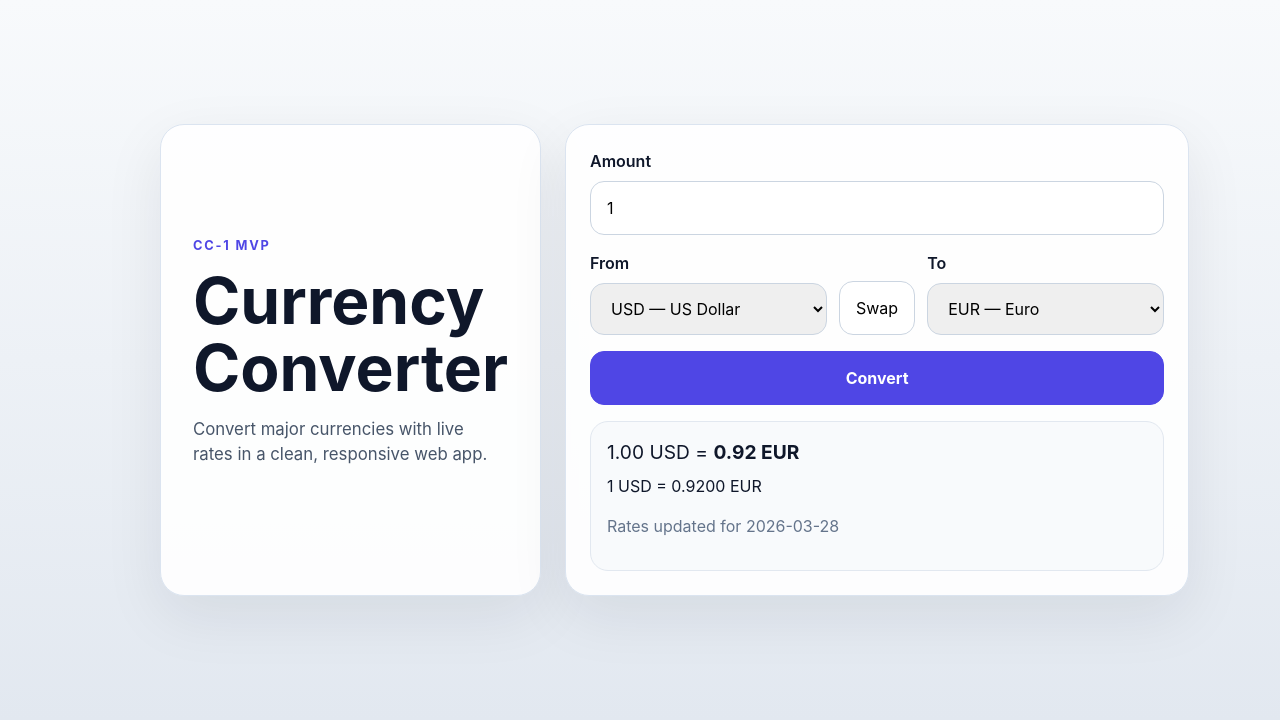
Test: App › refreshes conversion when amount and selector values change on the critical path
The image size is (1280, 720).
Expected: the text "1.00 USD = 0.92 EUR" is shown, top-left (607, 440), bottom-right (799, 464)
Clear the number field labelled "Amount" at point(877, 208), box top-left (590, 181), bottom-right (1164, 235)
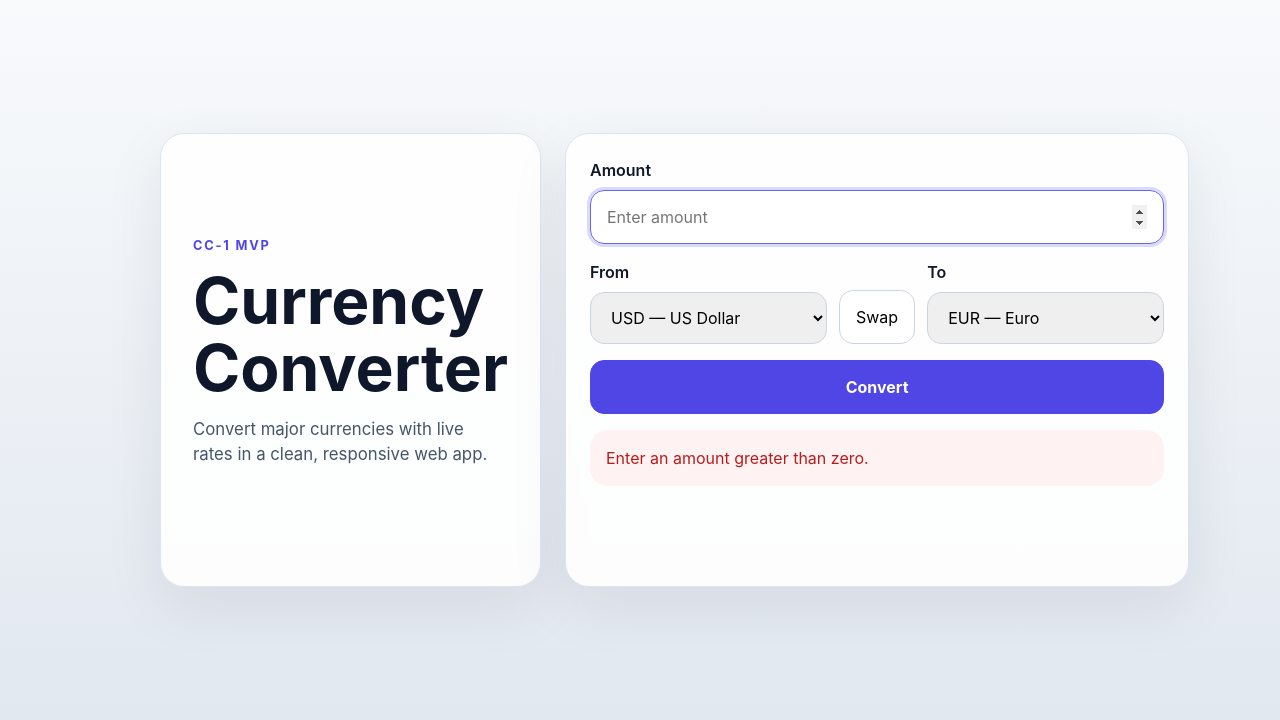
Type "5" into the number field labelled "Amount" at point(877, 217), box top-left (590, 190), bottom-right (1164, 244)
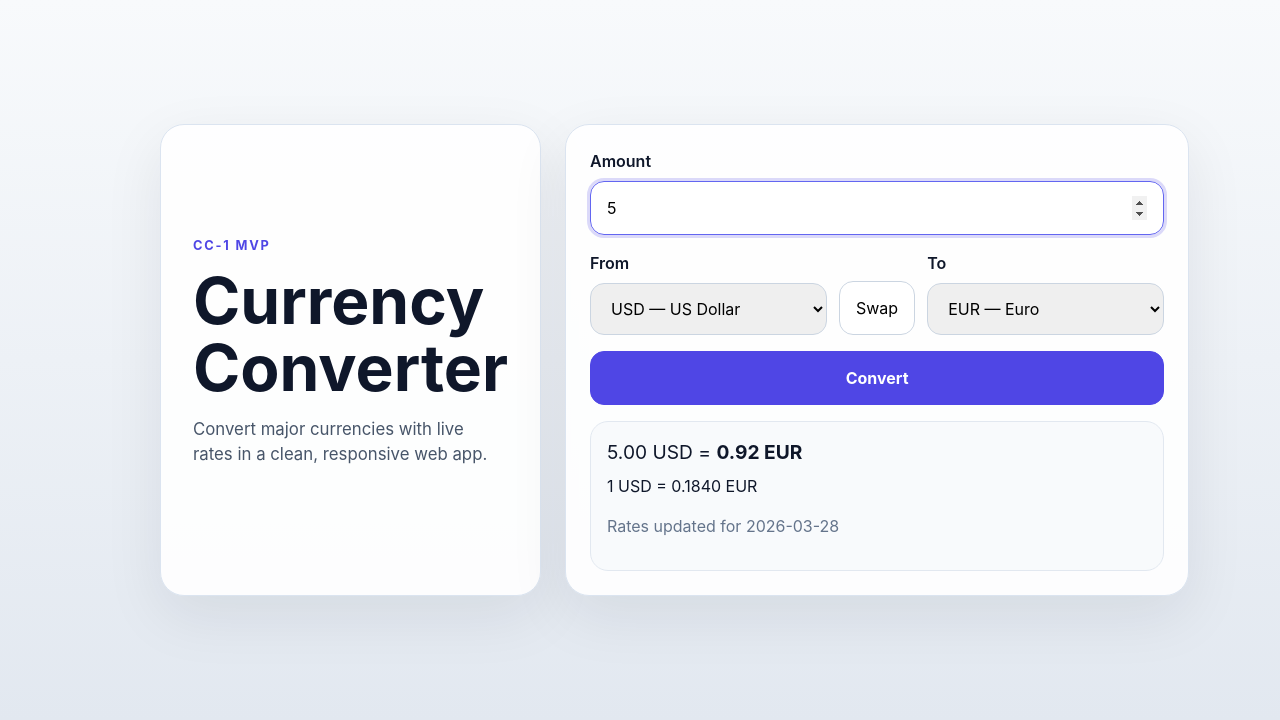
Select "GBP — British Pound" in the dropdown labelled "To" at point(1046, 309), box top-left (927, 283), bottom-right (1164, 335)
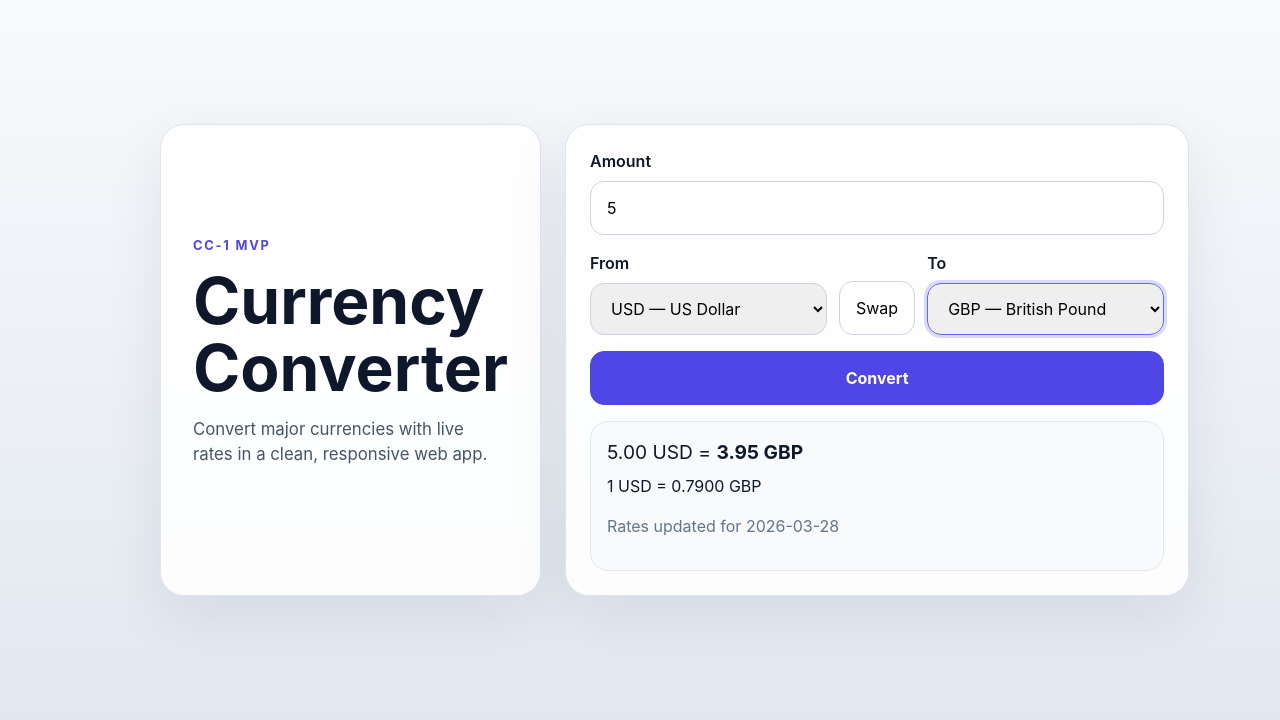
Expected: the text "5.00 USD = 3.95 GBP" is shown, top-left (607, 440), bottom-right (803, 464)
Expected: the text "3.95 GBP" is shown, top-left (716, 440), bottom-right (803, 464)
Expected: the text "1 USD = 0.7900 GBP" is shown, top-left (607, 476), bottom-right (762, 496)
